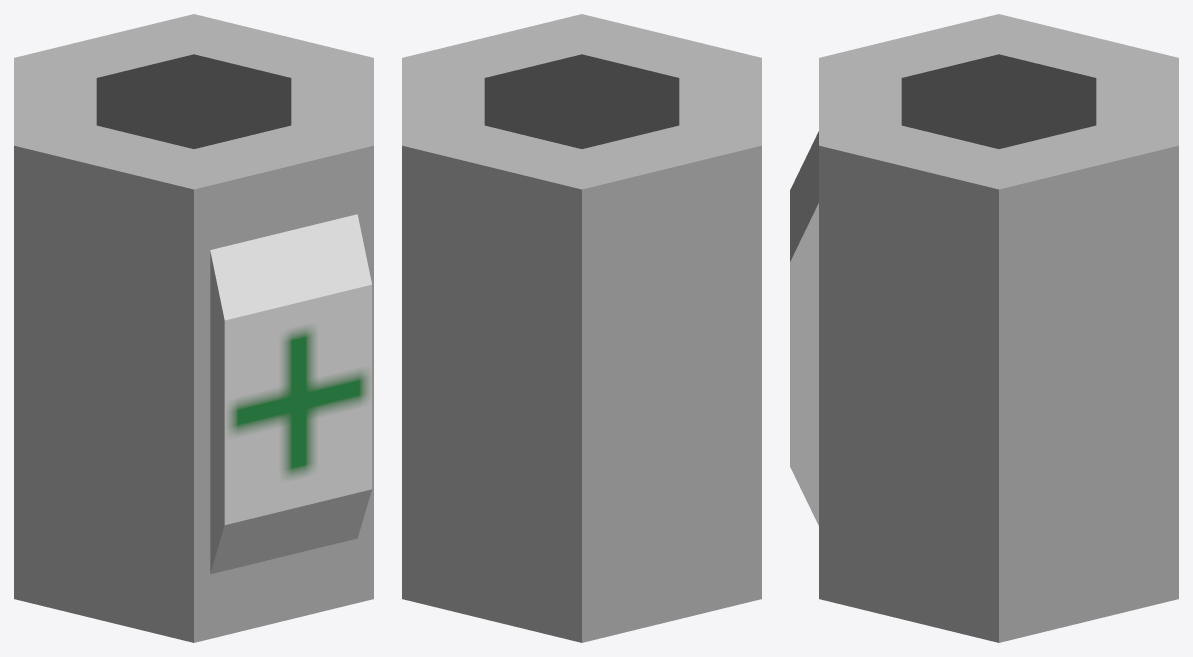
File: Bandages.fbx
3 renders of one model, left to right at view 1: azimuth 30°, elevation 25°; view 2: azimuth 150°, elevation 25°; view 3: azimuth 270°, elevation 25°, orthographic.
Visible parts, largest first — view 1: Bandages; view 2: Bandages; view 3: Bandages.
Boxes of the visible parts, x1=… form: Bandages: x1=14, y1=14, x2=373, y2=642; Bandages: x1=402, y1=14, x2=761, y2=642; Bandages: x1=790, y1=14, x2=1178, y2=642.
Size of the model in its own units: 56.95 by 68.6 by 53.3.
